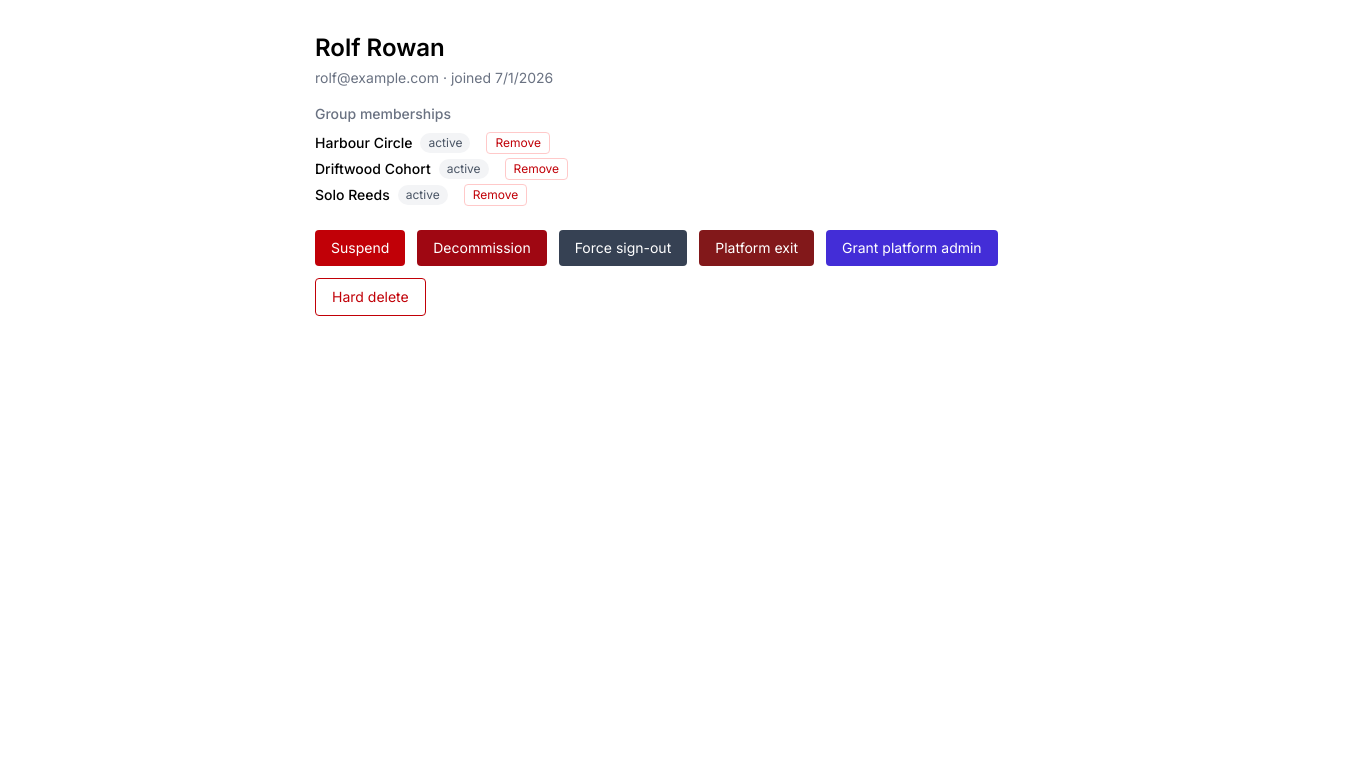
Test: AdminMemberDetail (FEAT-H036 STORY-2..6) › STORY-3 a refusal surfaces the platform message verbatim and the view repaints
The width and height of the screenshot is (1366, 768).
Expected: the heading "Rolf Rowan" is shown, 315,32 -> 445,64
Click the button with test id "suspend-member" at (360, 248), box 315,230 -> 405,266
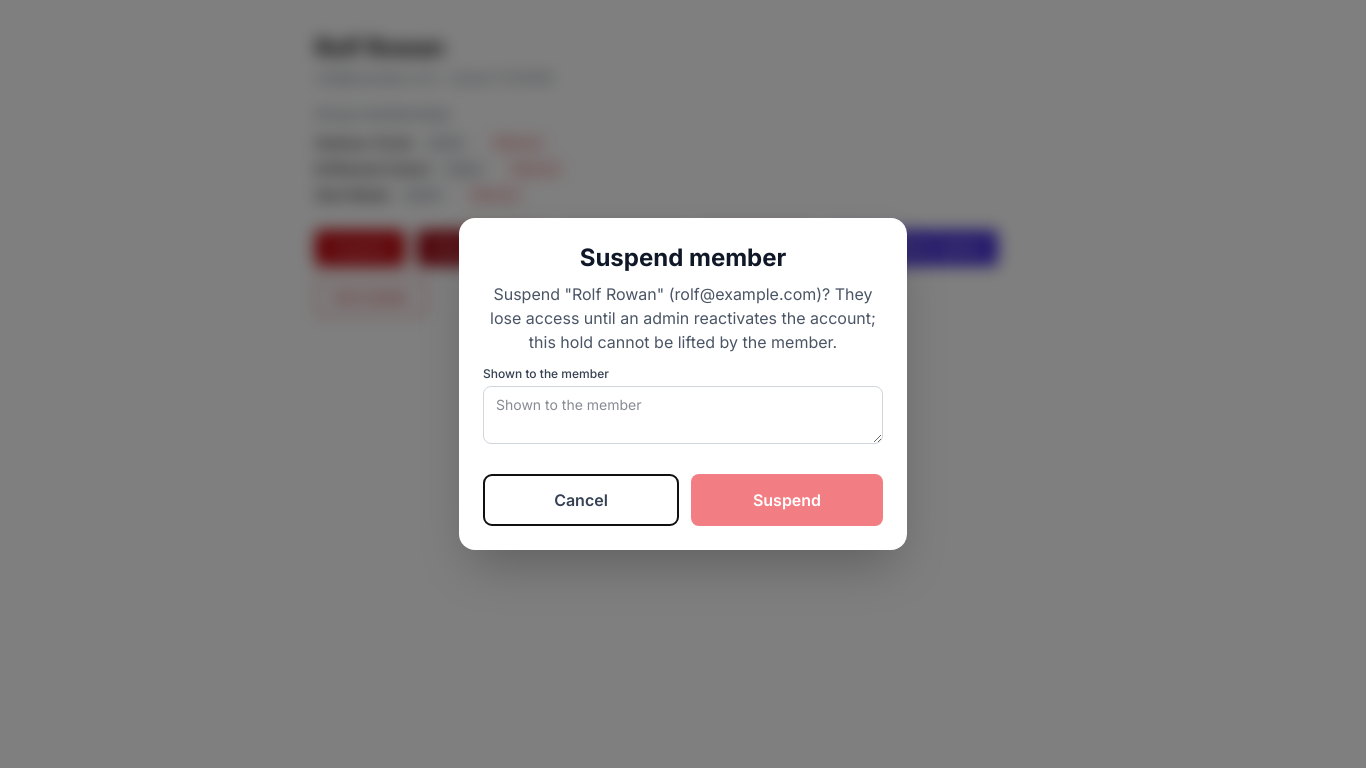
Type "FEAT-PC030 adapted: reason required" into the text box with test id "ceremony-reason" at (683, 415), box 483,386 -> 883,444
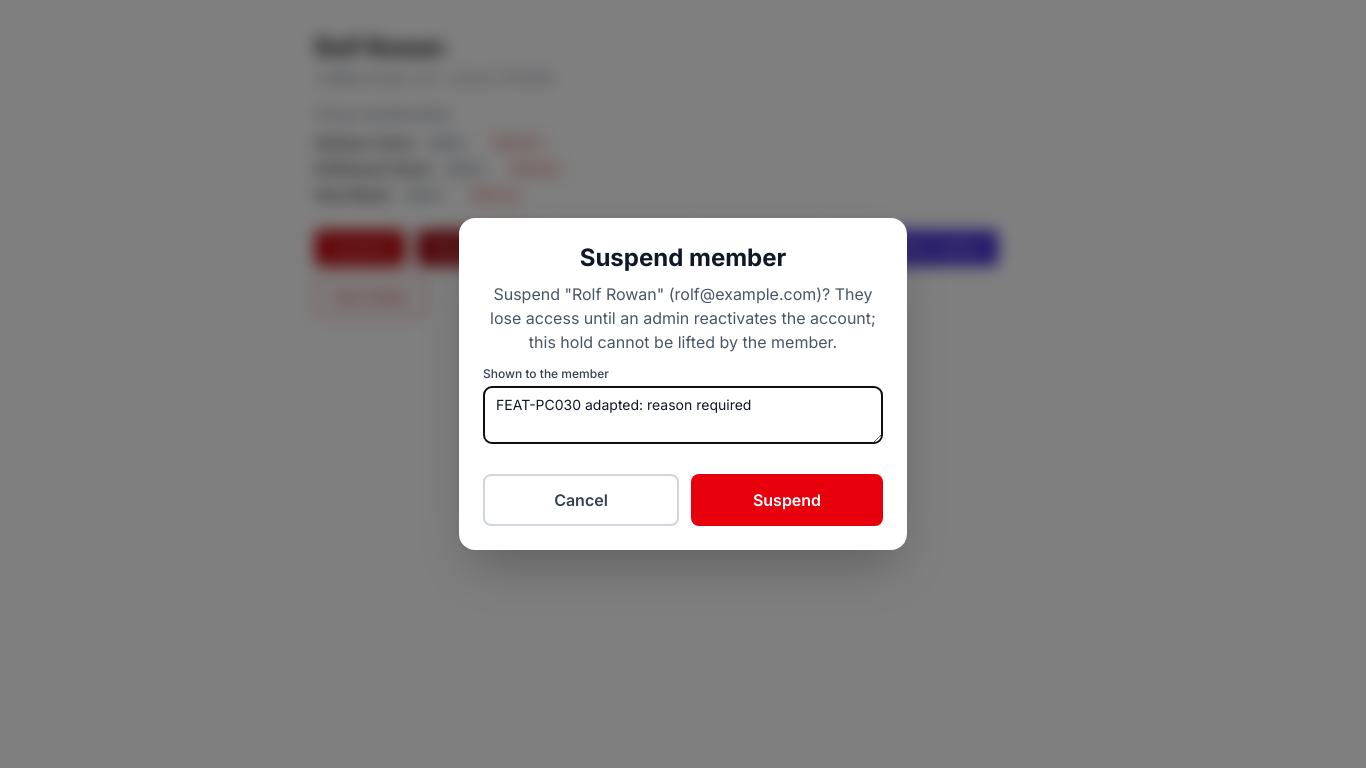
Click the button "Suspend" at (787, 500), box 691,474 -> 883,526
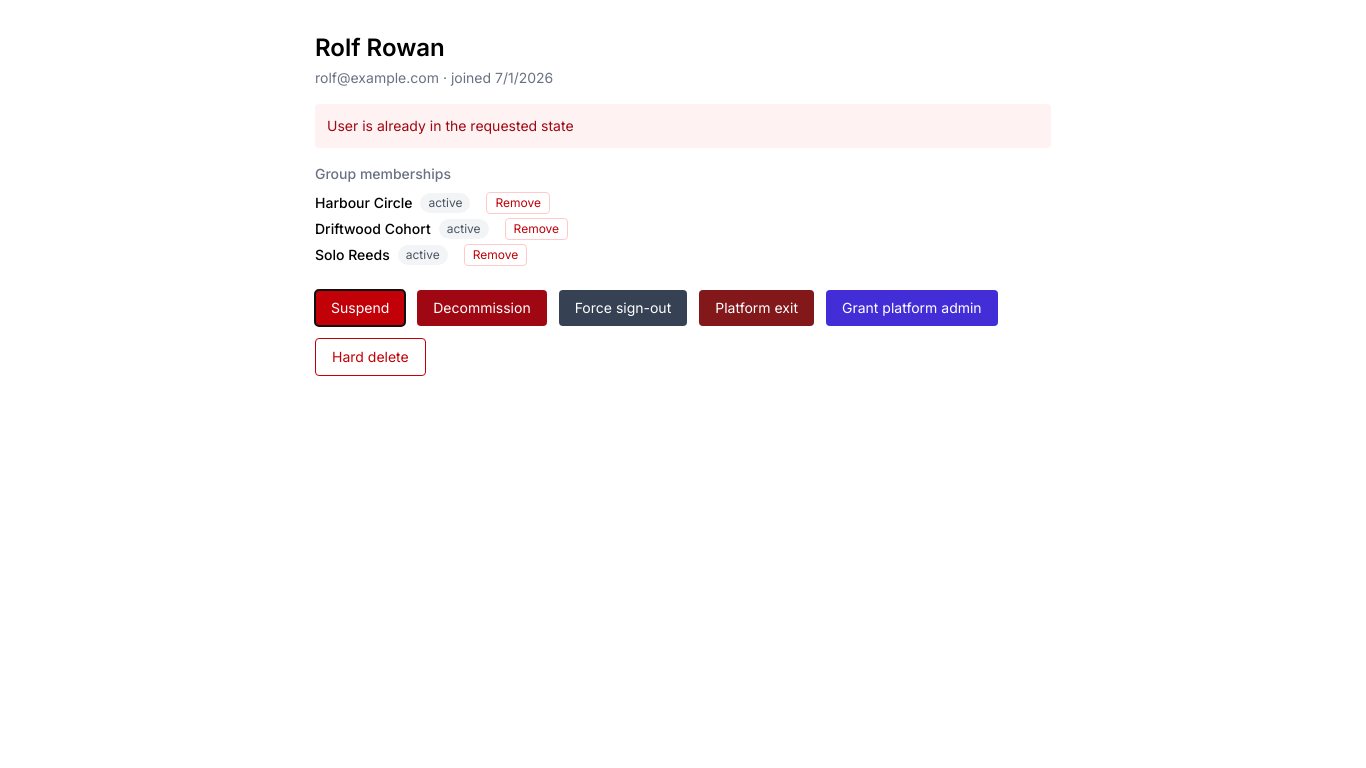
Result: the message with test id "action-error" reads "User is already in the requested state" at 327,117 -> 574,134
